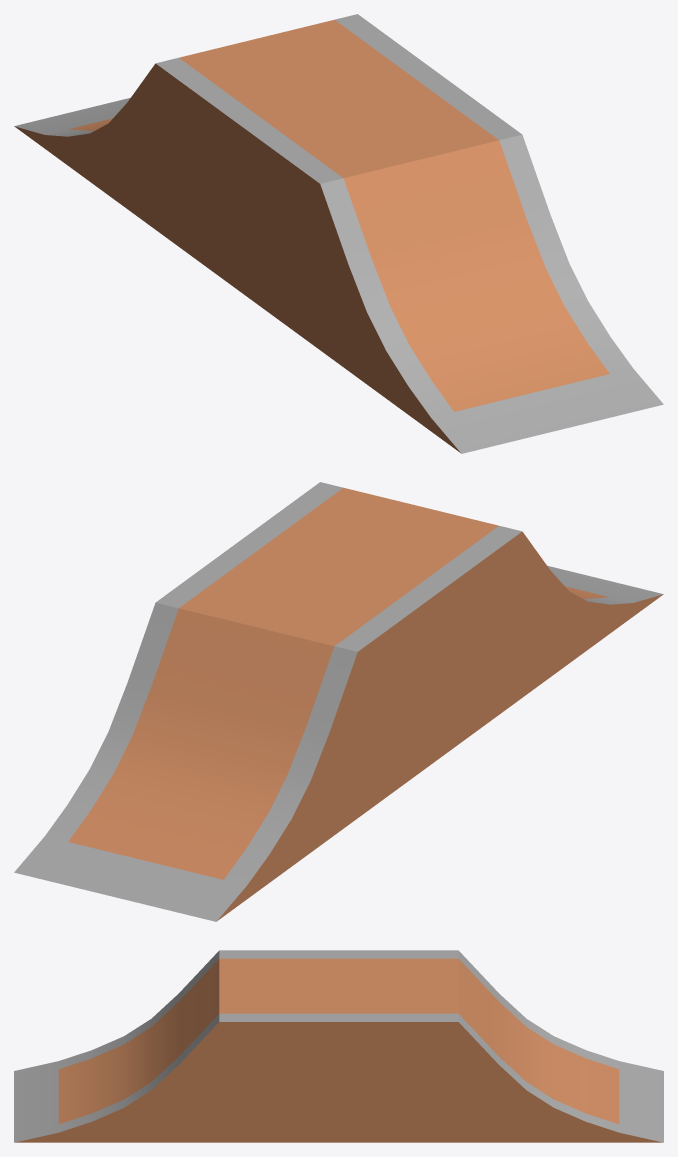
Rendered from terrain1.fbx.
The picture shows the model from 3 angles, top to bottom: view 1: azimuth 30°, elevation 25°; view 2: azimuth 150°, elevation 25°; view 3: azimuth 270°, elevation 25°; orthographic projection. The views are drawn at different scales.
Parts seen in each view (by area): view 1: terrain; view 2: terrain; view 3: terrain.
Boxes of the visible parts, <box> form: terrain: <box>14,14,663,453</box>; terrain: <box>14,482,663,921</box>; terrain: <box>14,950,663,1142</box>.
Size of the model in its own units: 284 by 223 by 1087.
